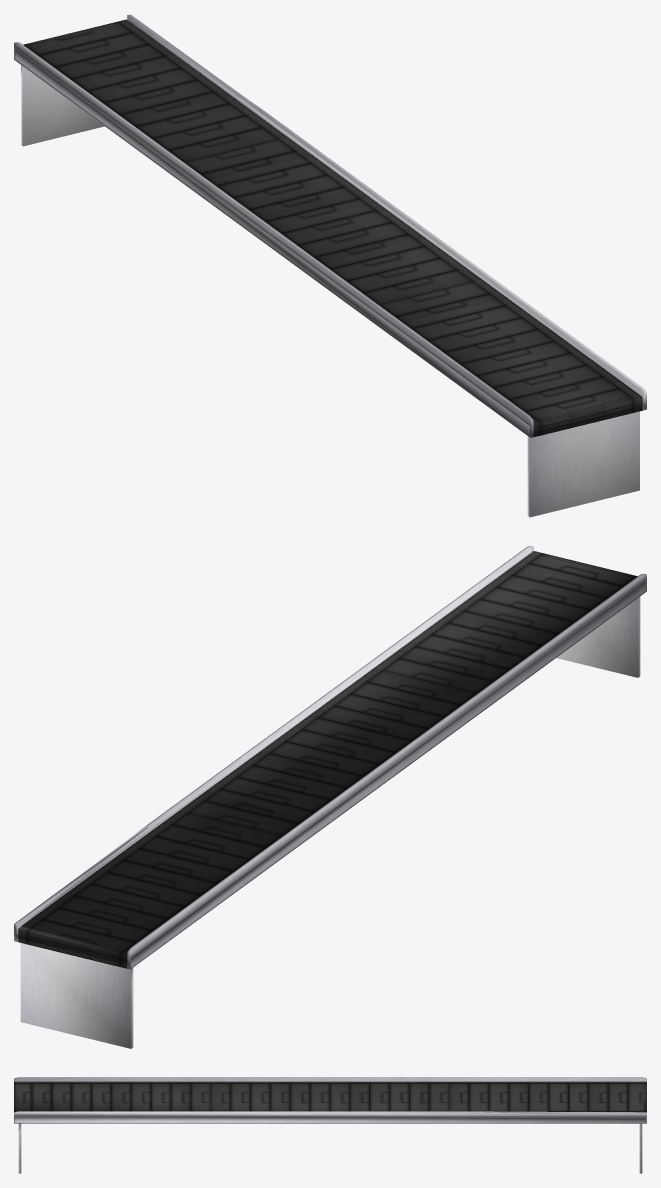
File: Convoyeur_08x.fbx
3 views of the same model, one above another, from view 1: azimuth 30°, elevation 25°; view 2: azimuth 150°, elevation 25°; view 3: azimuth 270°, elevation 25° (orthographic). The views are drawn at different scales.
Visible parts, largest first — view 1: Convoyeur_08x; view 2: Convoyeur_08x; view 3: Convoyeur_08x.
Boxes of the visible parts, x1,y1,x2,y2 form: Convoyeur_08x: (14, 14, 646, 517); Convoyeur_08x: (14, 546, 646, 1048); Convoyeur_08x: (14, 1077, 646, 1173).
Bounding box in the file's own units: 1.04 × 8.01 × 0.8701.
